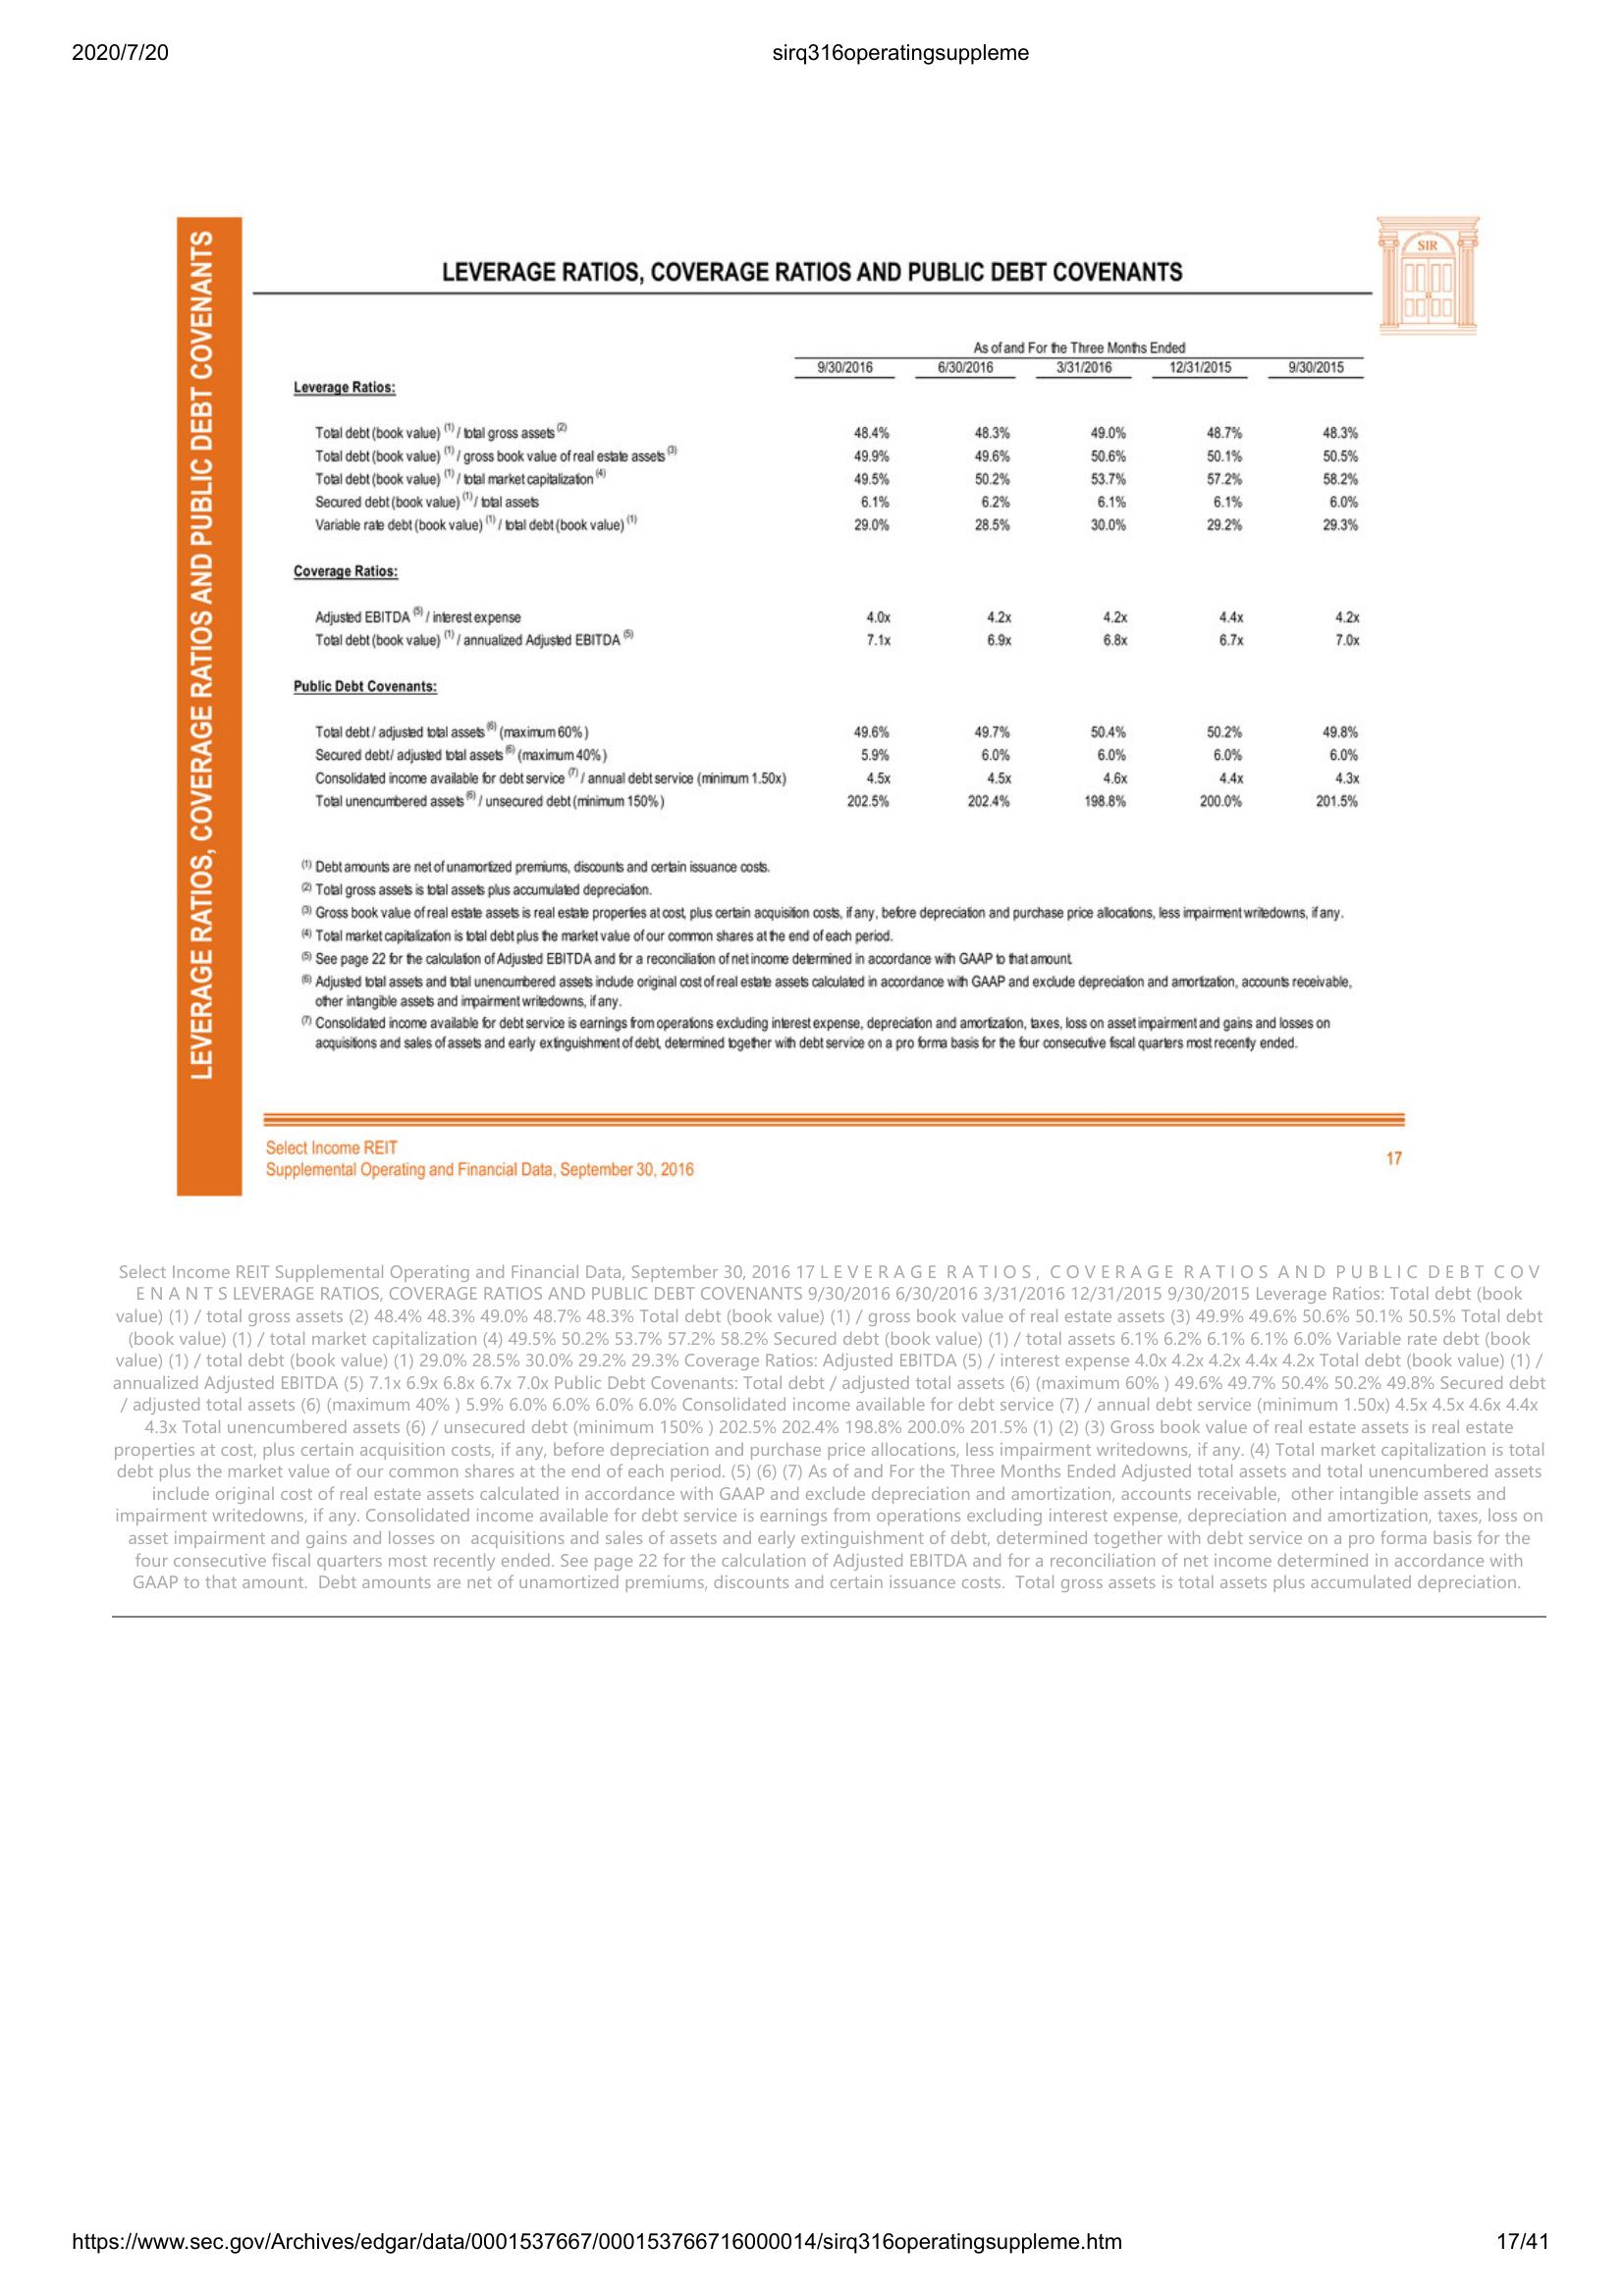table: (281, 335, 1368, 822)
